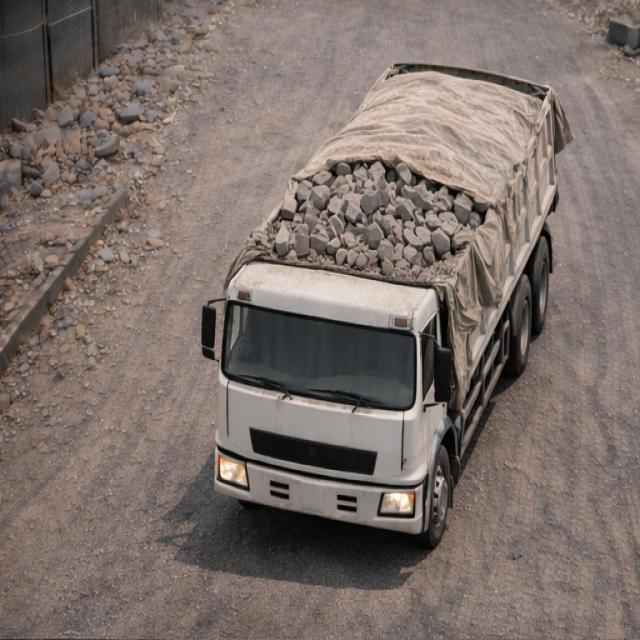Box: (250, 60, 551, 284)
Truck: (201, 56, 574, 552)
